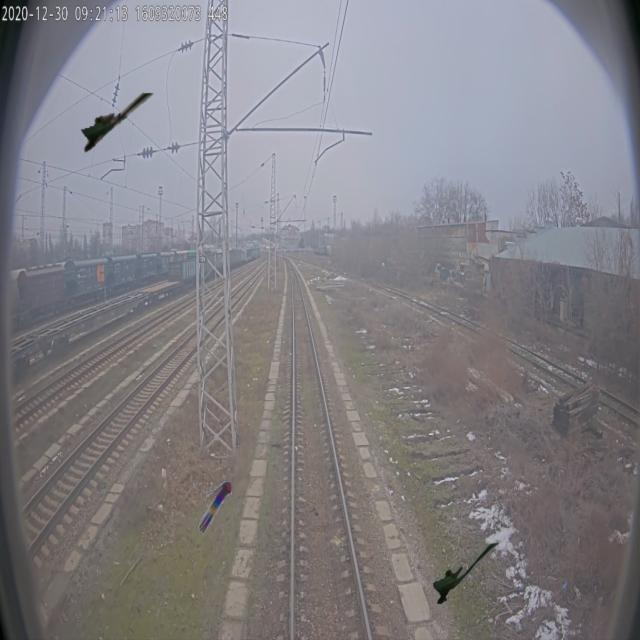floating object: (80, 89, 156, 153), (434, 540, 501, 604), (197, 477, 233, 541)
